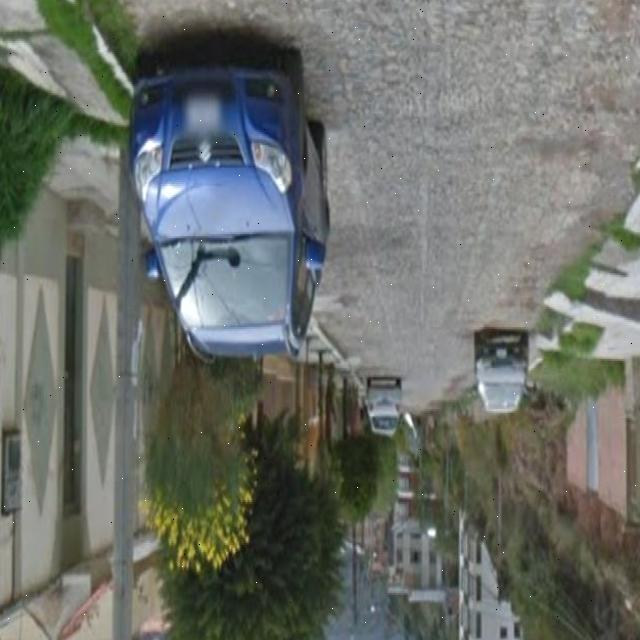car: (126, 41, 332, 352), (473, 327, 532, 419), (368, 370, 403, 442)
